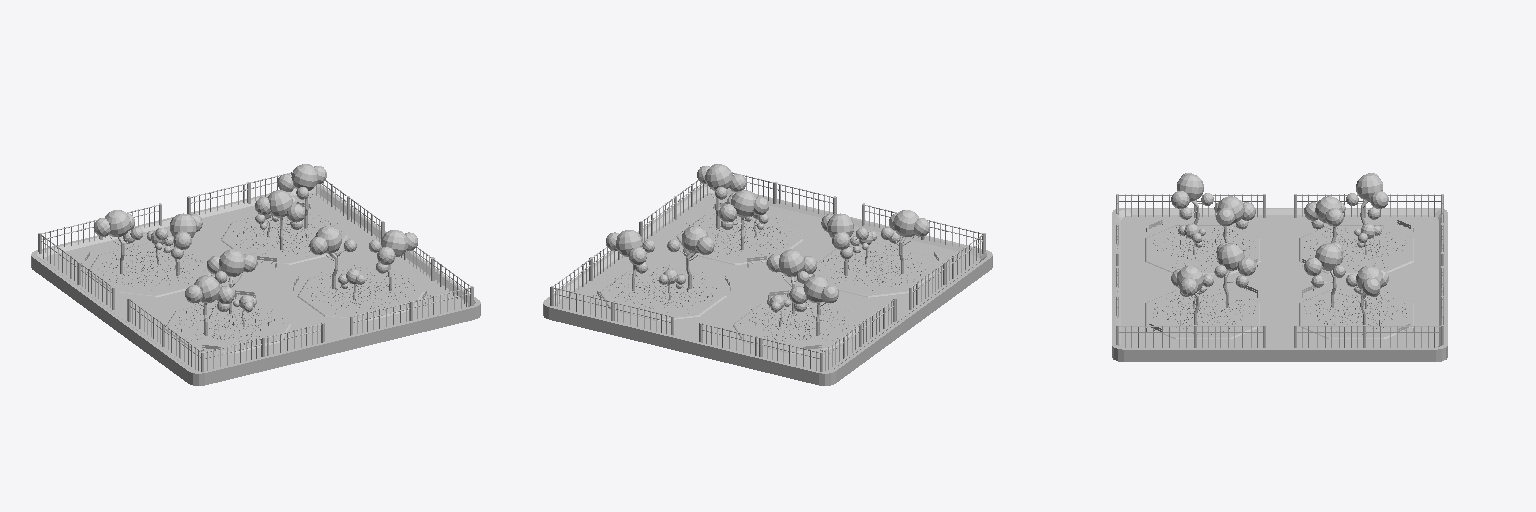
Rendered from green_1.obj.
3 views of the same model, side by side, from view 1: azimuth 30°, elevation 25°; view 2: azimuth 150°, elevation 25°; view 3: azimuth 270°, elevation 25° (orthographic).
Parts seen in each view (by area): view 1: Banks; view 2: Banks; view 3: Banks.
Boxes of the visible parts, box(x1,y1,x2,y2) form: Banks: box(31, 164, 480, 385); Banks: box(543, 164, 992, 385); Banks: box(1112, 173, 1447, 361).
Bounding box in the file's own units: 1 × 0.2302 × 1.